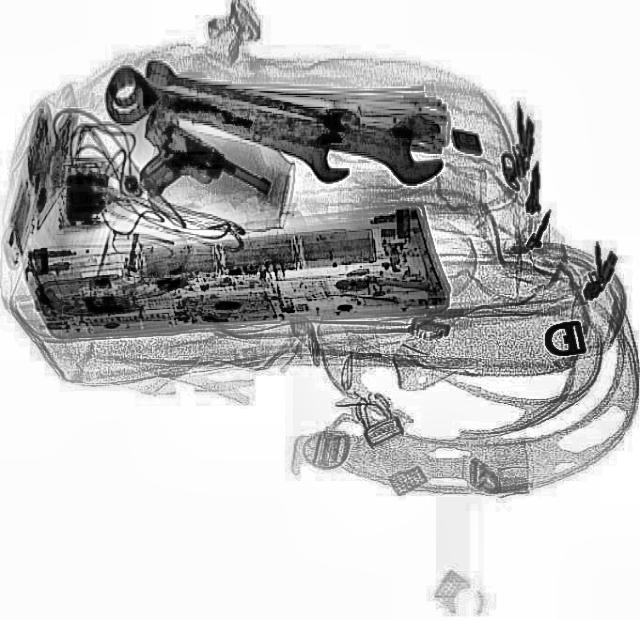Gun: (110, 104, 274, 236)
Wrench: (95, 54, 453, 190), (99, 61, 361, 188)
